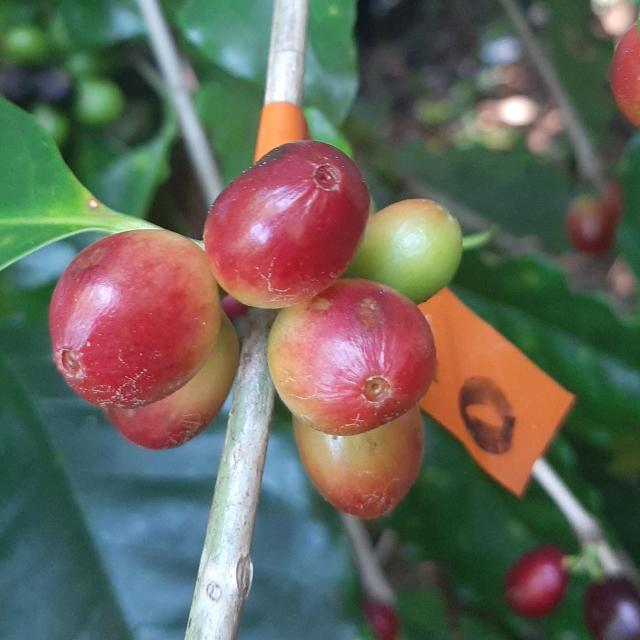green: (48, 230, 220, 409), (204, 139, 370, 309), (268, 278, 436, 436), (104, 313, 239, 450), (294, 406, 424, 520), (345, 198, 463, 303)
red: (506, 546, 570, 619), (584, 580, 640, 640)
